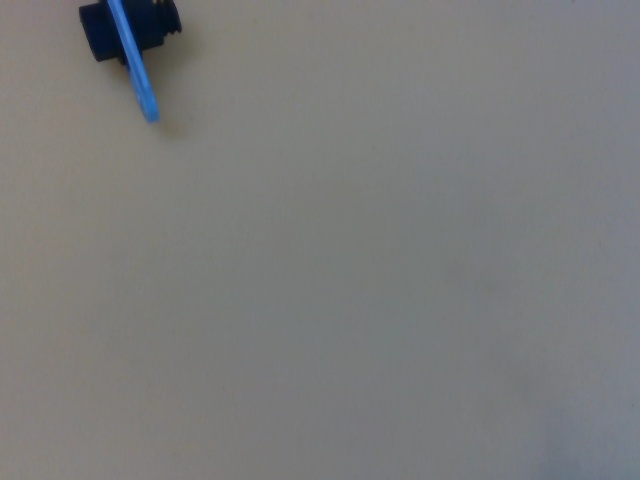part_1_good: (73, 0, 187, 129)
